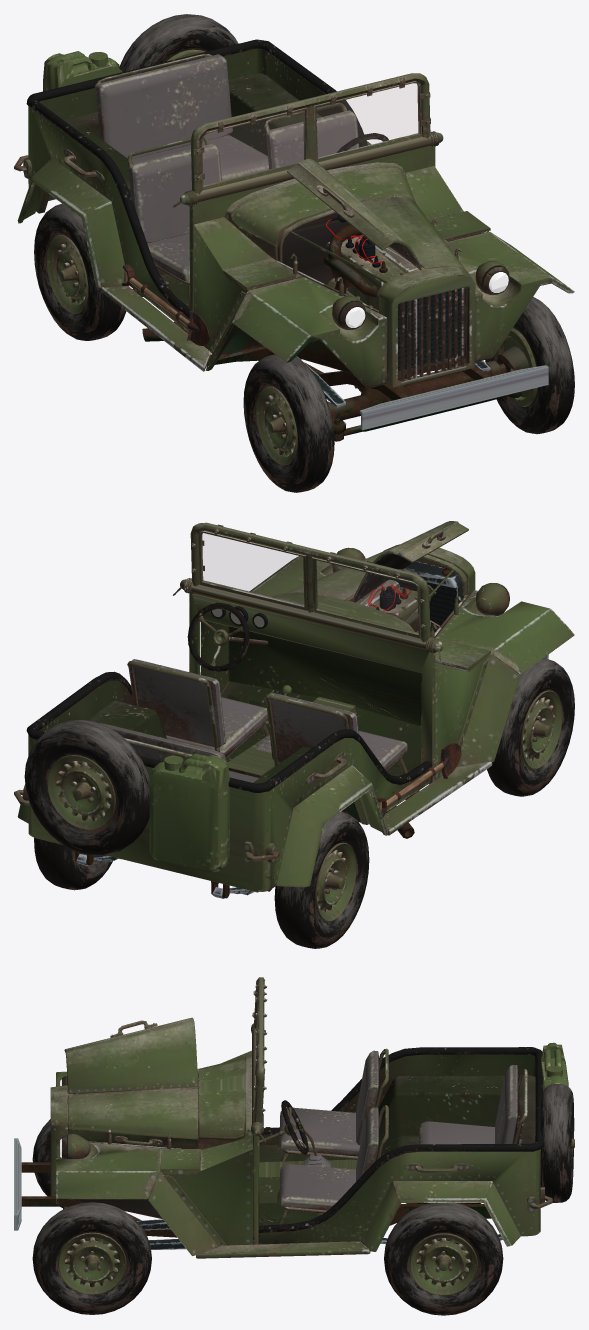
Rendered from no-budget-soviet-jeep-067ec7.glb.
The picture shows the model from 3 angles, top to bottom: view 1: azimuth 30°, elevation 25°; view 2: azimuth 150°, elevation 25°; view 3: azimuth 270°, elevation 25°; orthographic projection. The views are drawn at different scales.
Visible parts, largest first — view 1: body, wheel-front-right, wheel-front-left, wheel-back-right; view 2: body, wheel-front-right, wheel-back-right, wheel-back-left; view 3: body, wheel-back-left, wheel-front-left, wheel-front-right.
Part boxes in pixels (x1,y1,x2,y2): body: (14, 14, 574, 465); wheel-front-right: (243, 354, 334, 492); wheel-front-left: (485, 297, 574, 434); wheel-back-right: (34, 203, 126, 340); body: (14, 521, 574, 921); wheel-front-right: (487, 658, 574, 796); wheel-back-right: (274, 811, 369, 948); wheel-back-left: (34, 837, 112, 890); body: (14, 977, 574, 1295); wheel-back-left: (384, 1203, 503, 1315); wheel-front-left: (32, 1202, 151, 1314); wheel-front-right: (32, 1119, 62, 1207).
Bounding box in the file's own units: 1.85 × 1.73 × 3.64.
5 materials, 4 textured.
